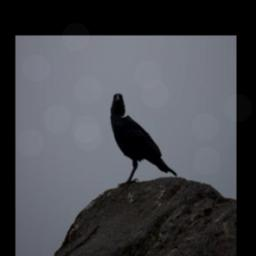Crow: (108, 91, 176, 185)
